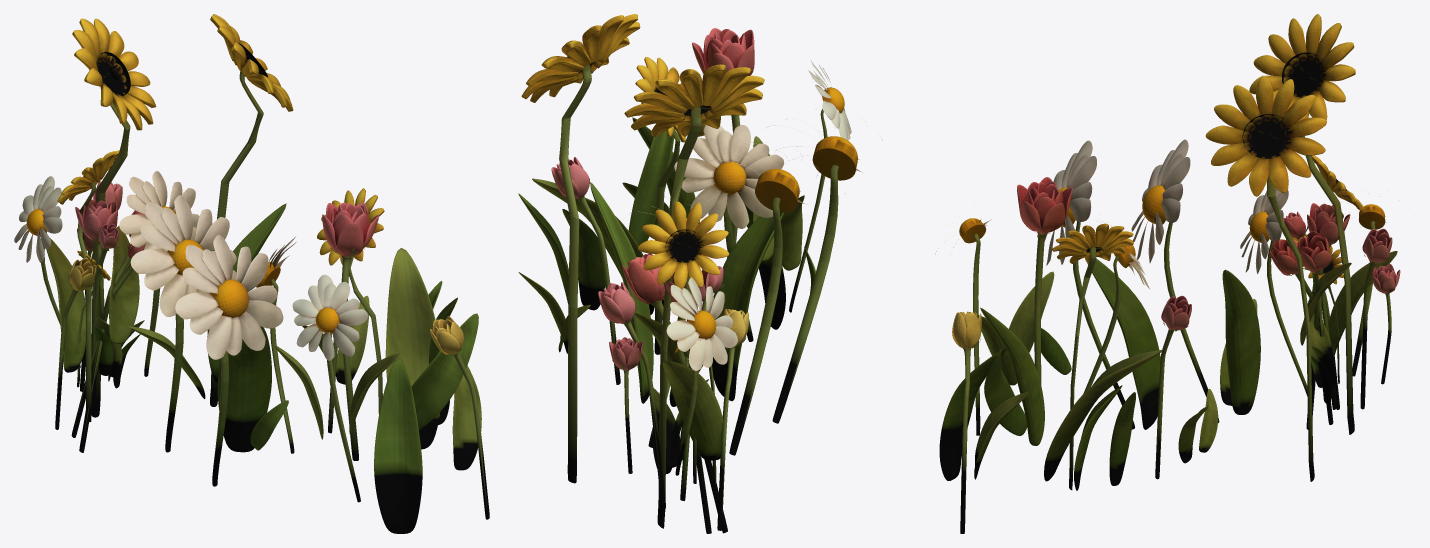
File: plants_cottageA.glb
3 renders of one model, left to right at view 1: azimuth 30°, elevation 25°; view 2: azimuth 150°, elevation 25°; view 3: azimuth 270°, elevation 25°, orthographic. The views are drawn at different scales.
Parts seen in each view (by area): view 1: V | 花草 · Cottage bed A; view 2: V | 花草 · Cottage bed A; view 3: V | 花草 · Cottage bed A.
Boxes of the visible parts, left/top/right/bottom form: V | 花草 · Cottage bed A: left=14, top=14, right=489, bottom=533; V | 花草 · Cottage bed A: left=518, top=14, right=882, bottom=533; V | 花草 · Cottage bed A: left=935, top=14, right=1400, bottom=533.
Size of the model in its own units: 1.51 by 1.99 by 2.09.
